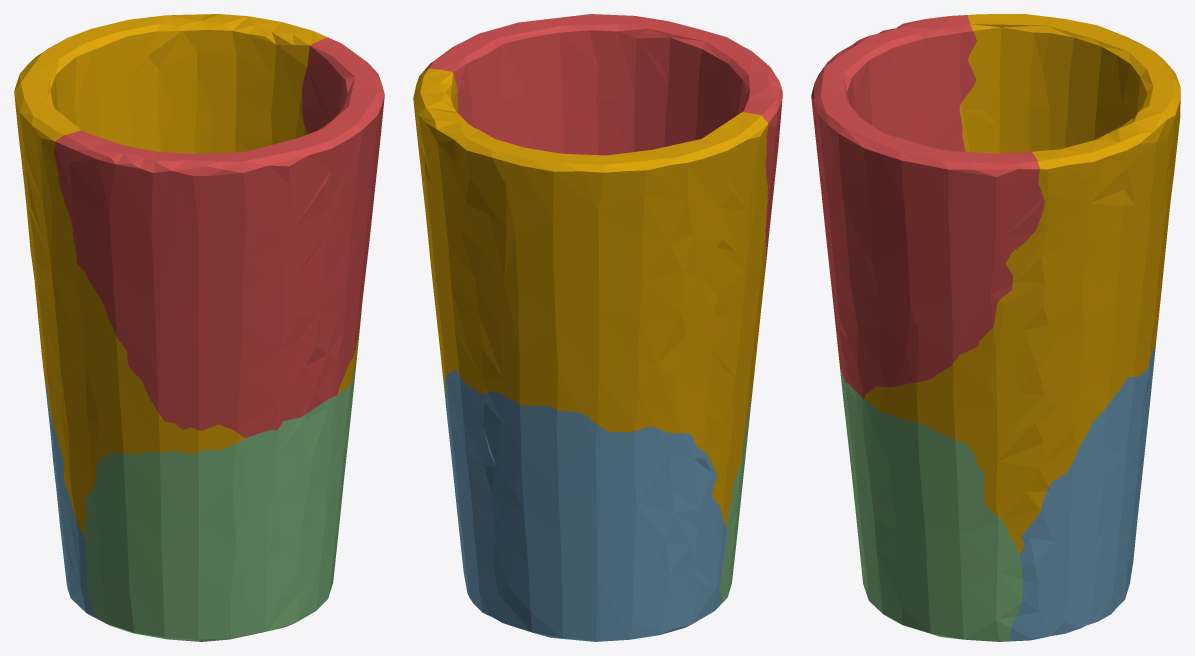
The model's file is mode_5_4pcs.glb.
3 views of the same model, side by side, from view 1: azimuth 30°, elevation 25°; view 2: azimuth 150°, elevation 25°; view 3: azimuth 270°, elevation 25° (orthographic).
Visible parts, largest first — view 1: piece_1.obj, piece_0.obj, piece_3.obj, piece_2.obj; view 2: piece_0.obj, piece_2.obj, piece_1.obj, piece_3.obj; view 3: piece_0.obj, piece_1.obj, piece_3.obj, piece_2.obj.
Boxes of the visible parts, x1,y1,x2,y2 form: piece_1.obj: [54, 37, 384, 437]; piece_0.obj: [14, 14, 359, 535]; piece_3.obj: [84, 367, 355, 641]; piece_2.obj: [44, 375, 95, 617]; piece_0.obj: [413, 68, 768, 526]; piece_2.obj: [444, 368, 726, 641]; piece_1.obj: [423, 14, 782, 272]; piece_3.obj: [719, 399, 751, 604]; piece_0.obj: [864, 14, 1180, 555]; piece_1.obj: [811, 15, 1044, 399]; piece_3.obj: [840, 369, 1022, 641]; piece_2.obj: [1010, 346, 1155, 641].
Size of the model in its own units: 0.6712 by 1 by 0.6685.
